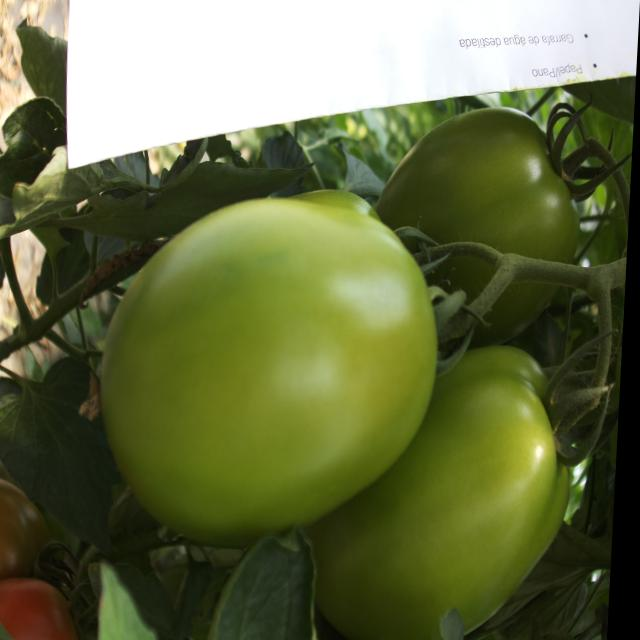yesil: (92, 141, 619, 625)
